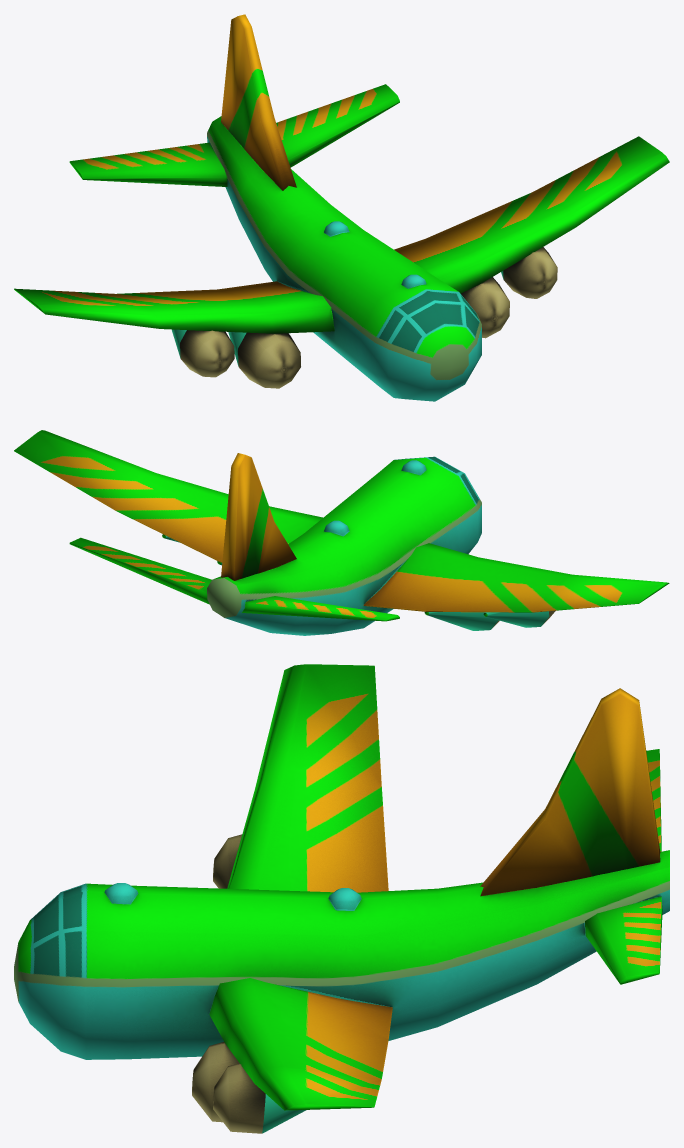
3 views of the same model, one above another, from view 1: azimuth 30°, elevation 25°; view 2: azimuth 150°, elevation 25°; view 3: azimuth 270°, elevation 25° (orthographic). The views are drawn at different scales.
Parts seen in each view (by area): view 1: Catoon_B29; view 2: Catoon_B29; view 3: Catoon_B29.
Part boxes in pixels (x1,y1,x2,y2): Catoon_B29: (14,14,669,401); Catoon_B29: (14,430,669,635); Catoon_B29: (14,664,669,1133).
Bounding box in the file's own units: 166 × 63.48 × 104.
1 material, 1 textured.
